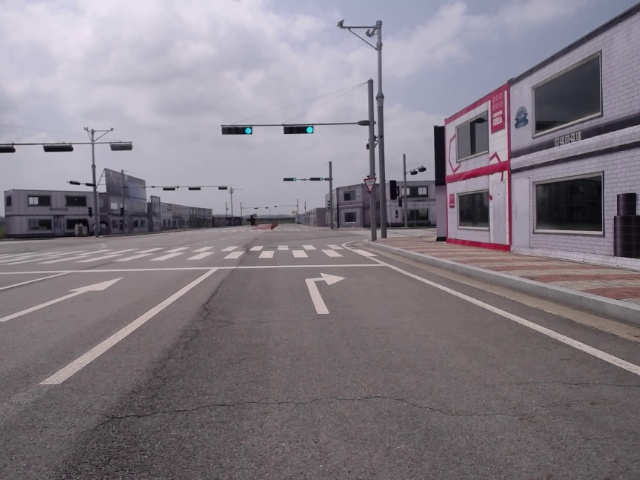straight_green_4: (222, 125, 252, 135), (284, 127, 314, 134)
